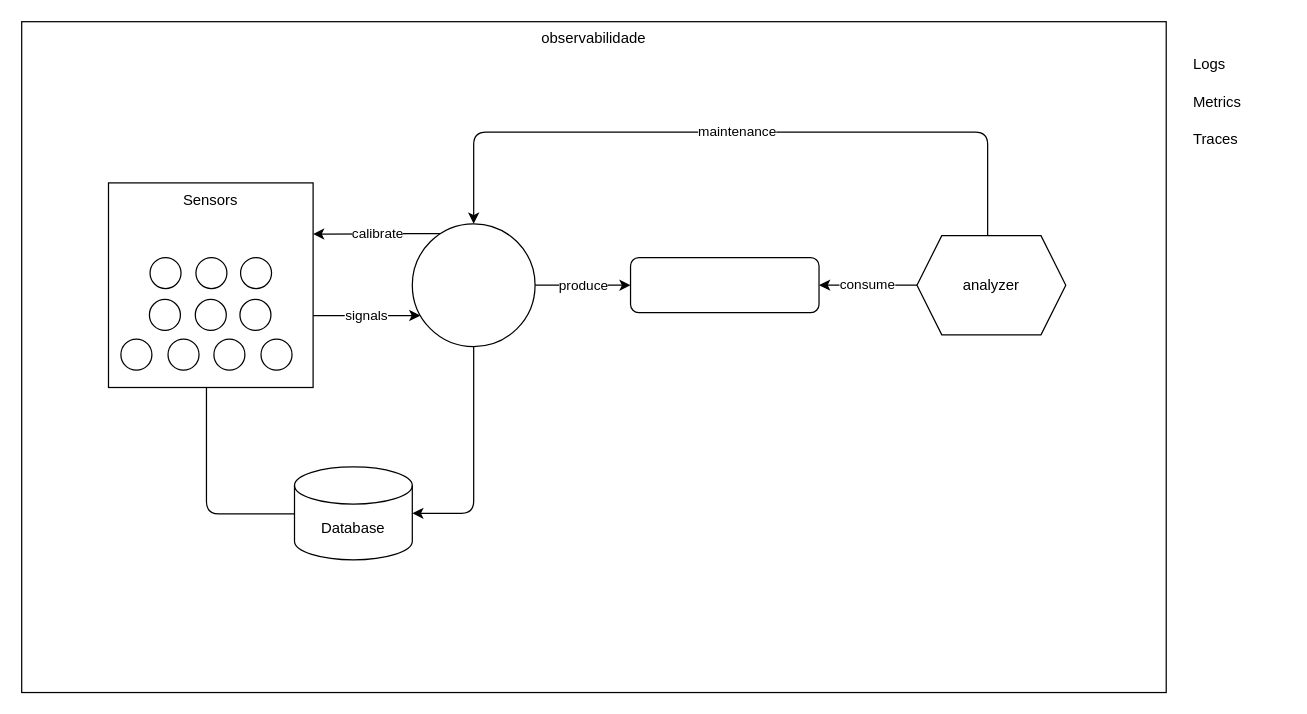
Image size: 1307x714. Some labels were removed from this diagram. The shapes that lost their labels are listed below. From the top down, each one's centre as x and y in pixels, then its label:
At point (473, 285): "manager".
At point (724, 284): "broker".
